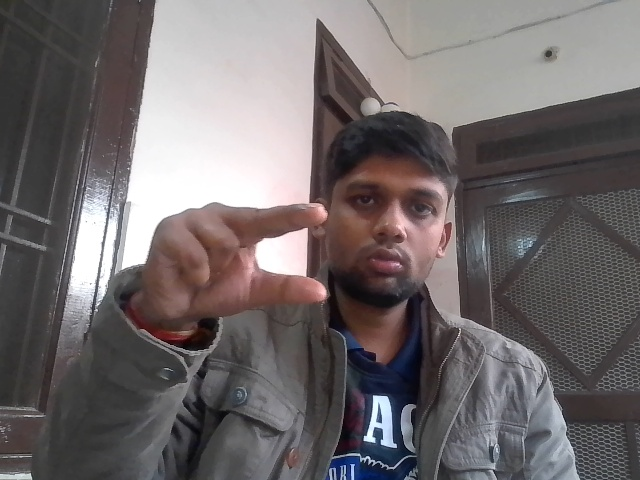No: (147, 194, 352, 326)
